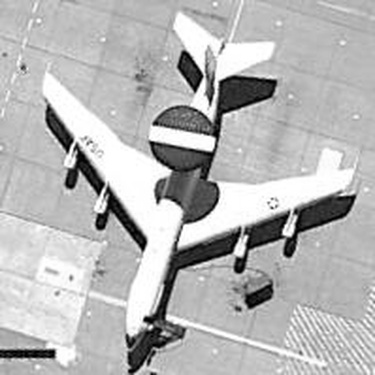airplane: (20, 1, 360, 369)
